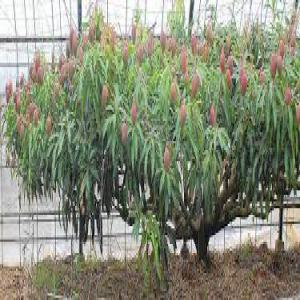Tree: (6, 0, 298, 276)
